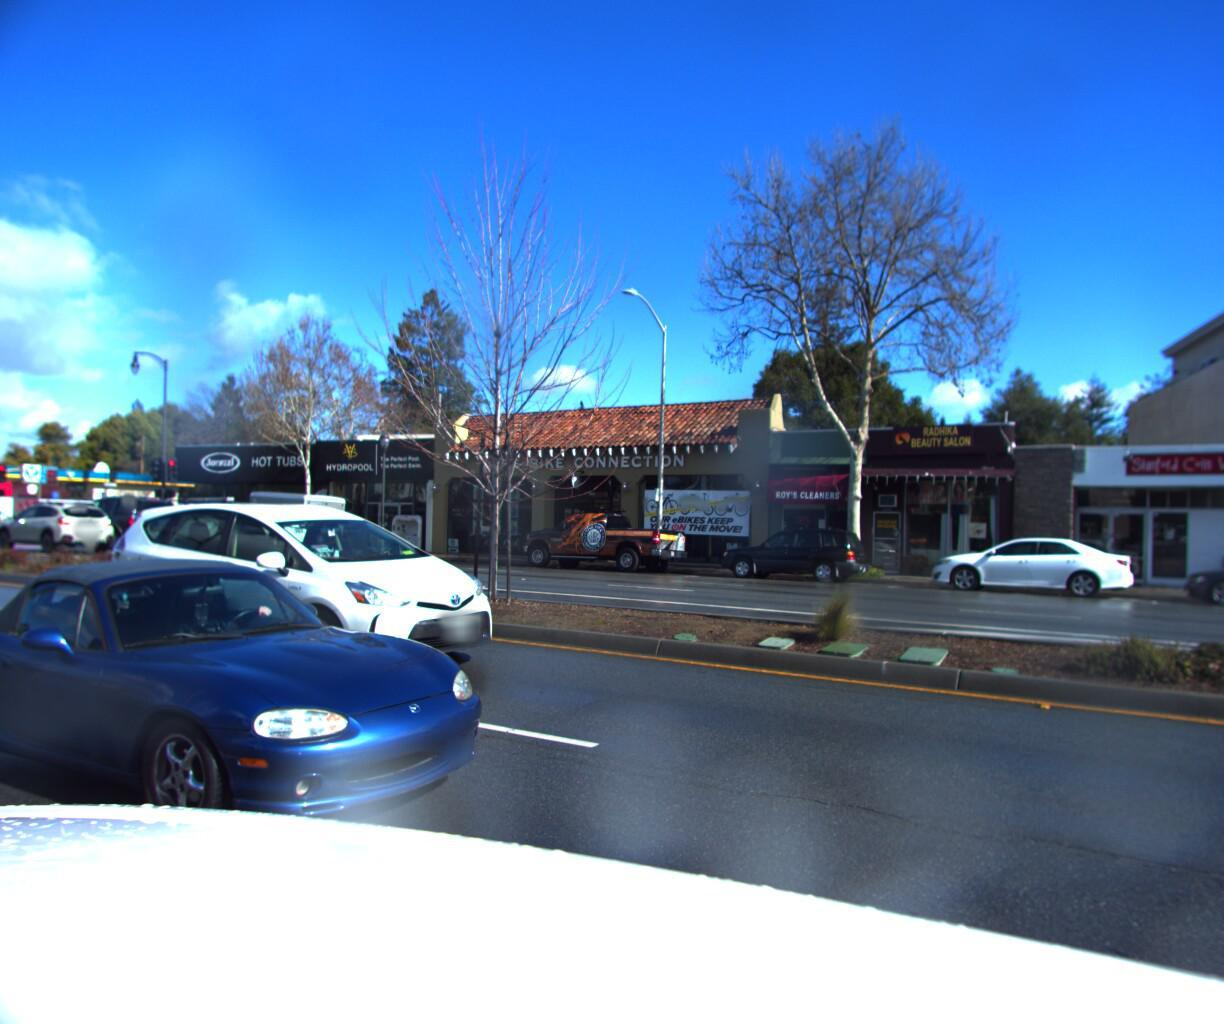car: (0, 548, 497, 896), (104, 504, 521, 691), (916, 533, 1137, 606), (508, 506, 691, 581), (705, 525, 877, 587), (123, 499, 265, 558), (181, 509, 330, 565), (45, 499, 182, 558), (0, 502, 135, 560), (1174, 543, 1224, 613)
other_vehicle: (211, 491, 353, 563)
